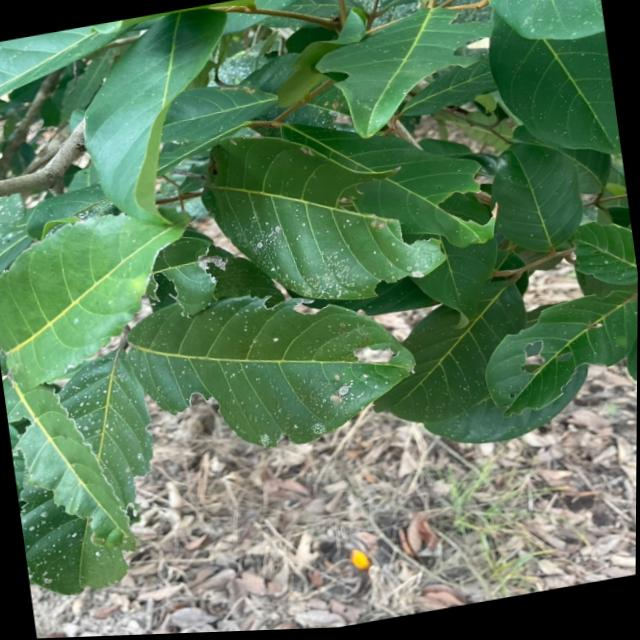Algal Leaf Spot: (1, 346, 202, 616), (230, 179, 461, 318)
